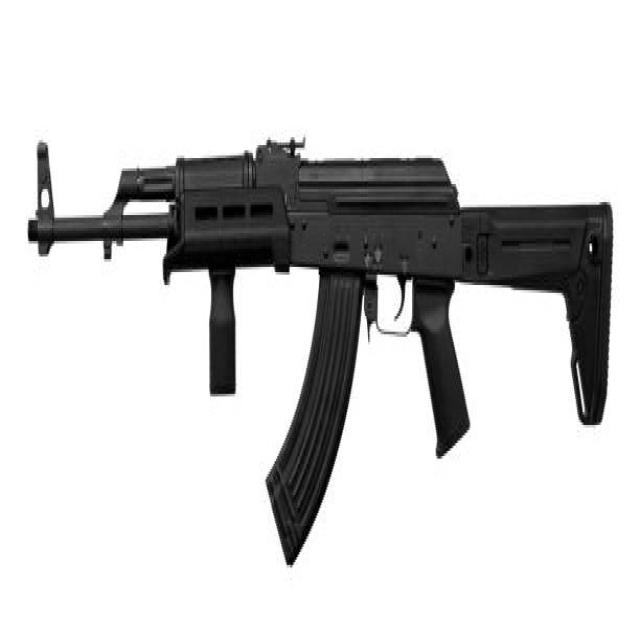rifle: (18, 110, 620, 600)
